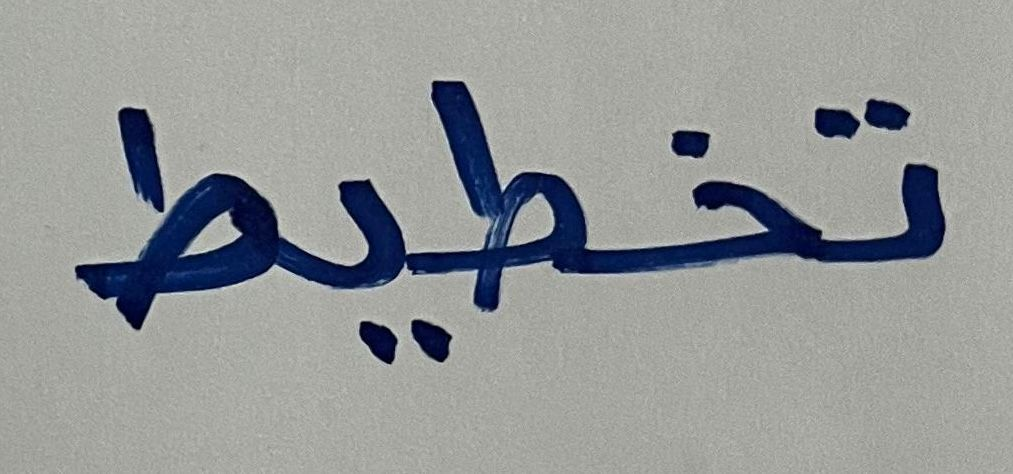khah: (613, 66, 805, 355)
tah: (47, 56, 277, 354), (433, 59, 601, 312)
teh: (808, 77, 961, 325)
yeh: (283, 136, 429, 417)
